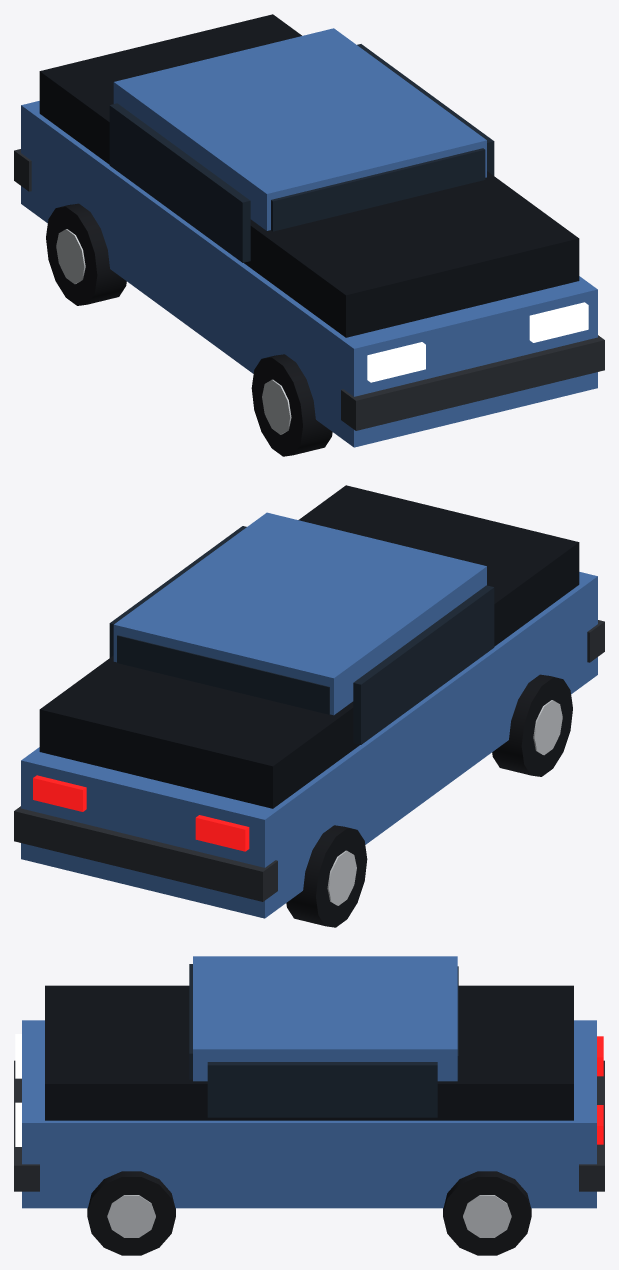
The model's file is mobil_umum_1.glb.
3 views of the same model, one above another, from view 1: azimuth 30°, elevation 25°; view 2: azimuth 150°, elevation 25°; view 3: azimuth 270°, elevation 25° (orthographic). The views are drawn at different scales.
Visible parts, largest first — view 1: object 1, object 2, object 3, object 6, object 8, object 4, wheel_rl, wheel_fl, object 12, object 10, object 7, object 9; view 2: object 1, object 2, object 3, object 6, object 9, object 5, wheel_fl, wheel_rl, object 11, object 13, object 7, object 8; view 3: object 1, object 2, object 3, object 7, wheel_fr, wheel_rr, object 9, object 8, object 4.
Part boxes in pixels (bbox=[...]): object 1: bbox=[21, 101, 597, 447]; object 2: bbox=[39, 14, 579, 337]; object 3: bbox=[113, 28, 486, 230]; object 6: bbox=[109, 103, 250, 262]; object 8: bbox=[341, 335, 604, 430]; object 4: bbox=[271, 148, 485, 231]; wheel_rl: bbox=[46, 203, 126, 305]; wheel_fl: bbox=[251, 354, 332, 456]; object 12: bbox=[529, 302, 588, 342]; object 10: bbox=[367, 342, 425, 382]; object 7: bbox=[357, 44, 494, 175]; object 9: bbox=[14, 149, 31, 191]; object 1: bbox=[21, 572, 597, 918]; object 2: bbox=[39, 485, 579, 808]; object 3: bbox=[113, 512, 486, 715]; object 6: bbox=[353, 585, 494, 744]; object 9: bbox=[14, 806, 277, 901]; object 5: bbox=[117, 635, 329, 714]; wheel_fl: bbox=[492, 674, 572, 776]; wheel_rl: bbox=[286, 825, 367, 927]; object 11: bbox=[195, 815, 249, 851]; object 13: bbox=[33, 775, 86, 811]; object 7: bbox=[109, 526, 246, 657]; object 8: bbox=[587, 620, 604, 662]; object 1: bbox=[22, 1020, 596, 1208]; object 2: bbox=[45, 985, 573, 1120]; object 3: bbox=[193, 956, 457, 1081]; object 7: bbox=[207, 1062, 437, 1117]; wheel_fr: bbox=[87, 1171, 175, 1255]; wheel_rr: bbox=[443, 1171, 531, 1255]; object 9: bbox=[579, 1060, 604, 1191]; object 8: bbox=[14, 1060, 39, 1191]; object 4: bbox=[189, 964, 192, 1079].
Bounding box in the file's own units: 2.08 × 1.65 × 4.52.
